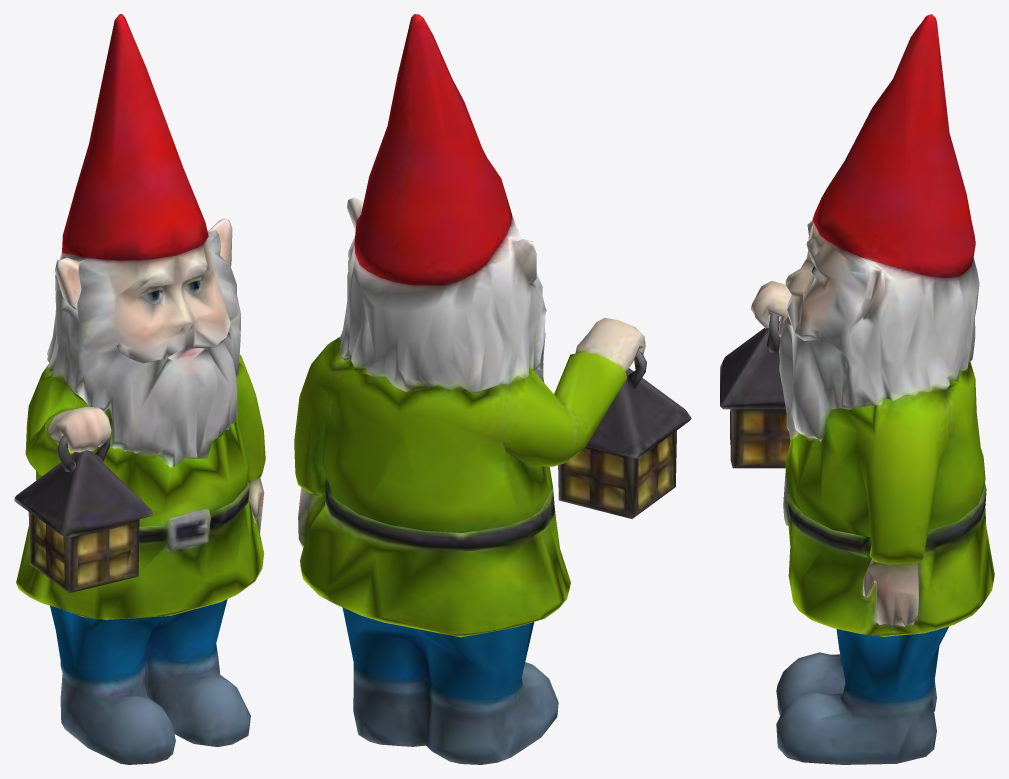
Rendered from garden_gnome.l.8b4add30.glb.
3 views of the same model, side by side, from view 1: azimuth 30°, elevation 25°; view 2: azimuth 150°, elevation 25°; view 3: azimuth 270°, elevation 25° (orthographic). The views are drawn at different scales.
Visible parts, largest first — view 1: garden_gnome; view 2: garden_gnome; view 3: garden_gnome.
Boxes of the visible parts, left/top/right/bottom form: garden_gnome: left=14, top=14, right=265, bottom=764; garden_gnome: left=294, top=14, right=691, bottom=764; garden_gnome: left=720, top=14, right=994, bottom=764.
Bounding box in the file's own units: 0.2562 × 0.5985 × 0.2087.
1 material, 1 textured.
